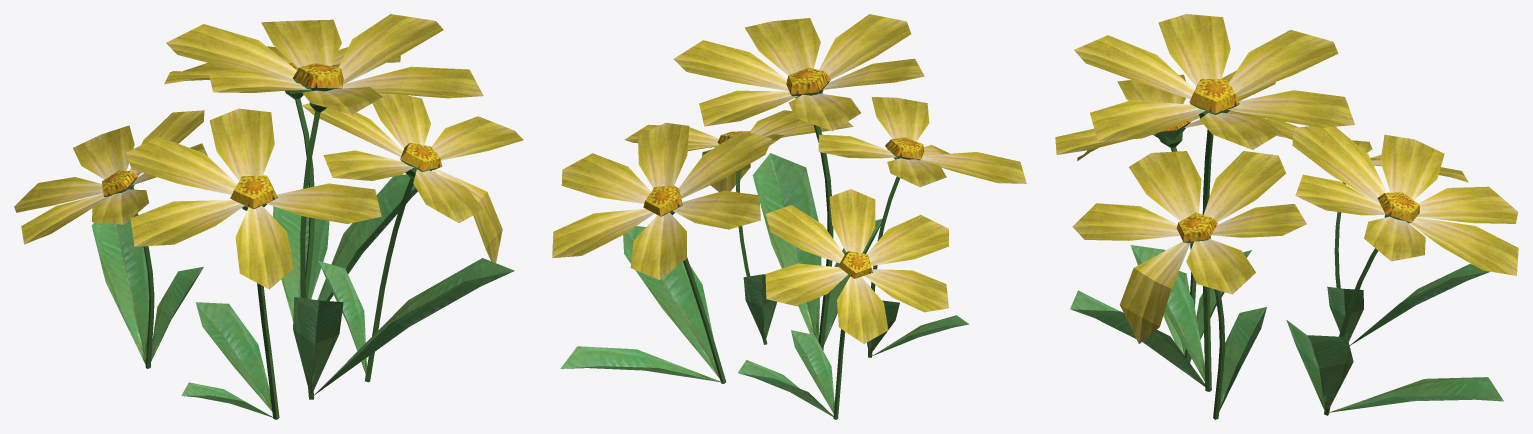
File: yellowflower.obj
3 views of the same model, side by side, from view 1: azimuth 30°, elevation 25°; view 2: azimuth 150°, elevation 25°; view 3: azimuth 270°, elevation 25° (orthographic). The views are drawn at different scales.
Visible parts, largest first — view 1: flowers; view 2: flowers; view 3: flowers.
Part boxes in pixels (x1,y1,x2,y2): flowers: [14, 14, 523, 419]; flowers: [552, 14, 1026, 419]; flowers: [1055, 14, 1518, 419].
Size of the model in its own units: 1.92 by 1.47 by 1.86.
1 material, 1 textured.
